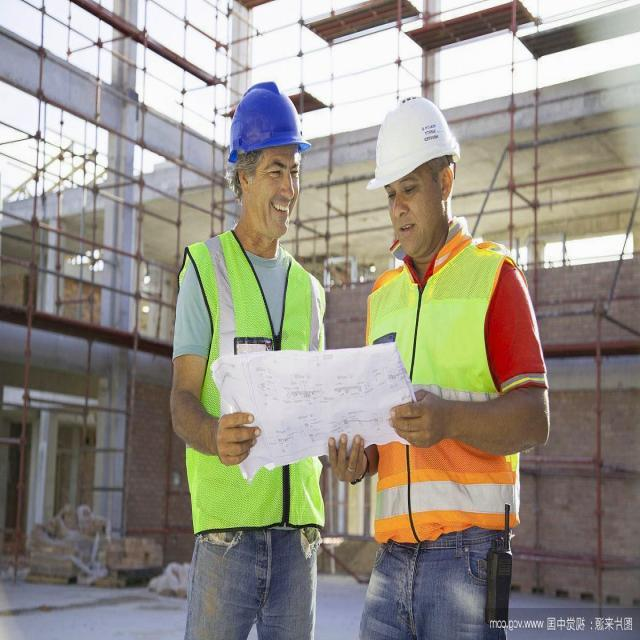face_nomask: (382, 165, 439, 263), (247, 144, 307, 234)
hand_noglove: (388, 383, 449, 454), (214, 409, 264, 470), (323, 426, 370, 488)
head_helmet: (363, 90, 458, 194), (222, 76, 310, 158)
person: (360, 84, 511, 637), (188, 85, 322, 637)
vest: (174, 232, 326, 538), (361, 246, 516, 524)
